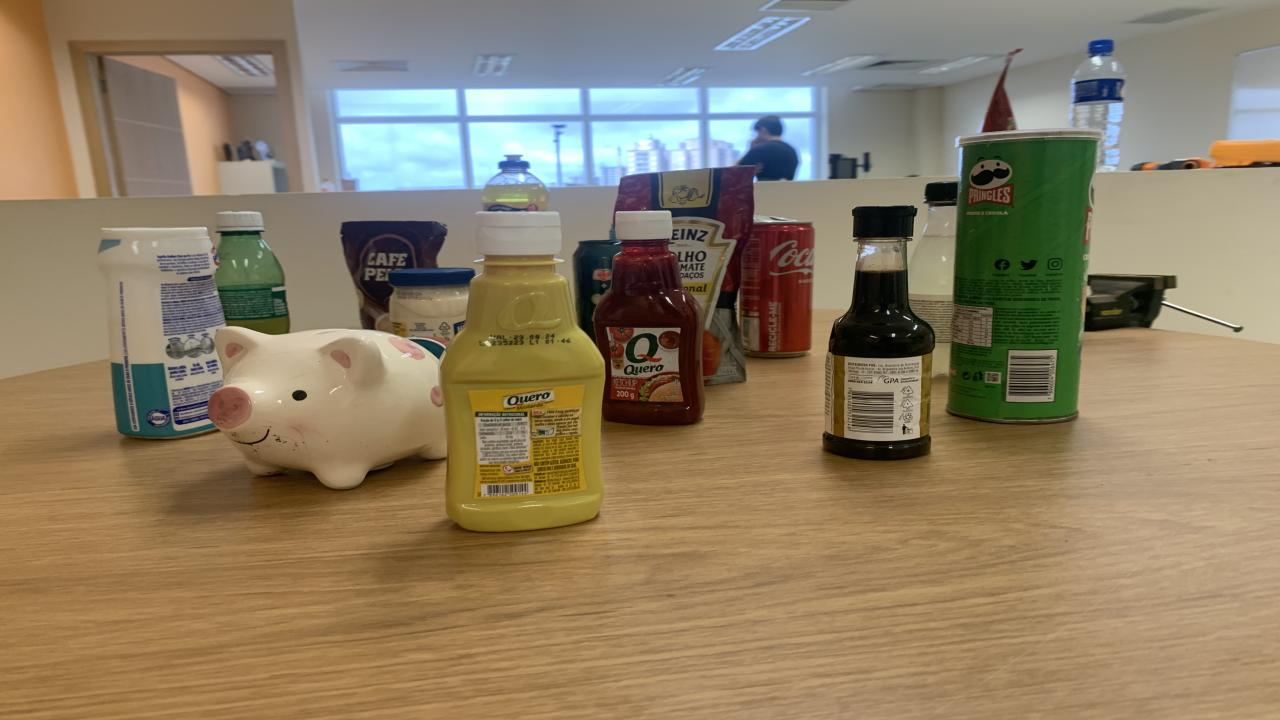Cleaner-Cleanup_Items: (98, 227, 225, 439)
Coffee-Pantry_Items: (340, 221, 448, 330)
Coke-Drinks: (740, 216, 815, 358)
Detergent-Cleanup_Items: (482, 154, 550, 212)
English_Sauce-Pantry_Items: (822, 236, 935, 459), (855, 206, 912, 232)
Guarana-Drinks: (215, 212, 290, 334)
Guarana_Can-Drinks: (572, 240, 620, 339)
Ketchup-Pantry_Items: (592, 210, 705, 426)
Mayonnaise-Pantry_Items: (388, 268, 475, 345)
Mustard-Pantry_Items: (440, 210, 605, 531)
Pig_Safe-Miscellaneous: (208, 328, 448, 489)
Pringles-Snacks: (948, 129, 1100, 422)
Soda-Drinks: (908, 182, 958, 375)
Tomato_Sauce-Pantry_Items: (615, 167, 755, 384)
